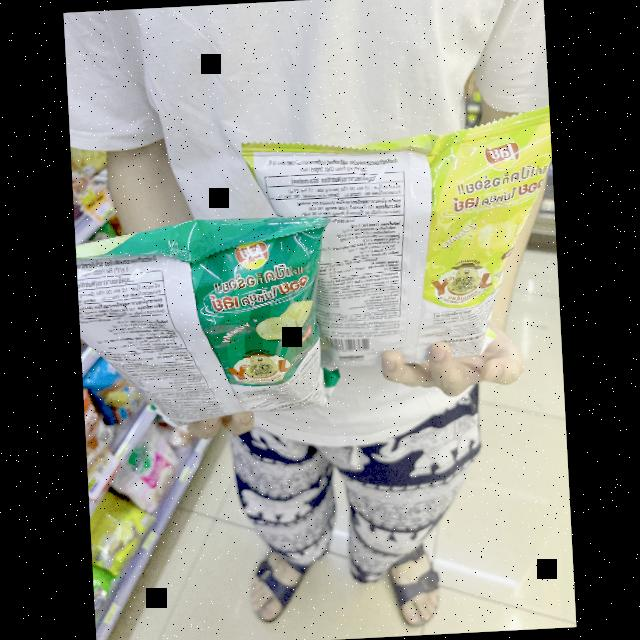snack_bag: (236, 110, 563, 387), (75, 200, 356, 427)
